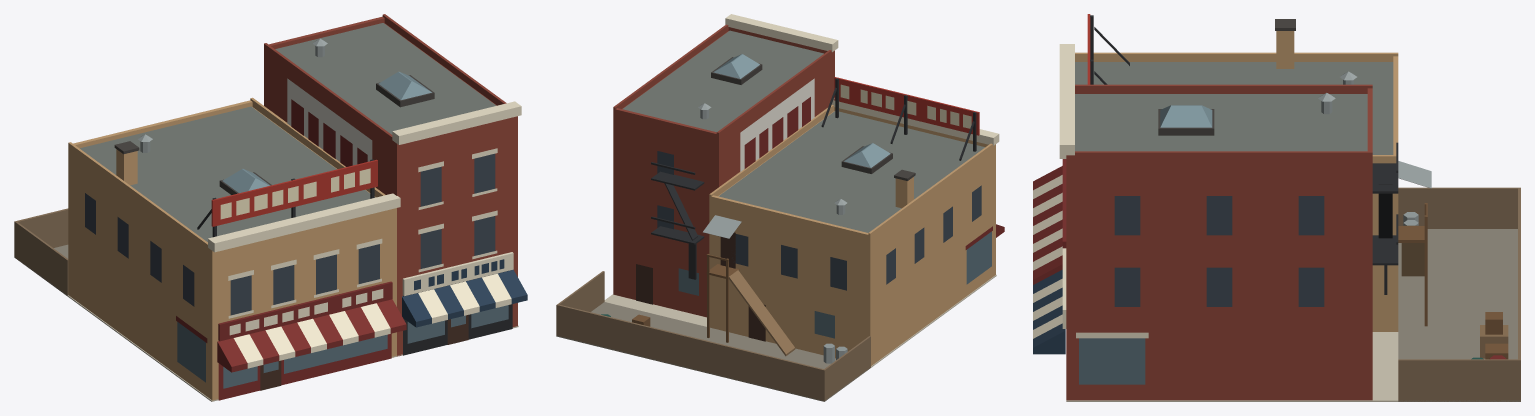
File: highstreet_wc.glb
The picture shows the model from 3 angles, left to right: view 1: azimuth 30°, elevation 25°; view 2: azimuth 150°, elevation 25°; view 3: azimuth 270°, elevation 25°; orthographic projection. The views are drawn at different scales.
Visible parts, largest first — view 1: highstreet_wc; view 2: highstreet_wc; view 3: highstreet_wc.
Part boxes in pixels (bbox=[...]): highstreet_wc: bbox=[14, 14, 527, 401]; highstreet_wc: bbox=[556, 14, 1004, 401]; highstreet_wc: bbox=[1033, 14, 1520, 401].
Size of the model in its own units: 18 by 12.73 by 21.49.
